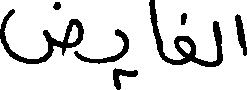X: (0, 0, 83, 68), (175, 8, 193, 69), (150, 0, 163, 64), (115, 24, 127, 89), (235, 9, 246, 60), (214, 16, 221, 71)
